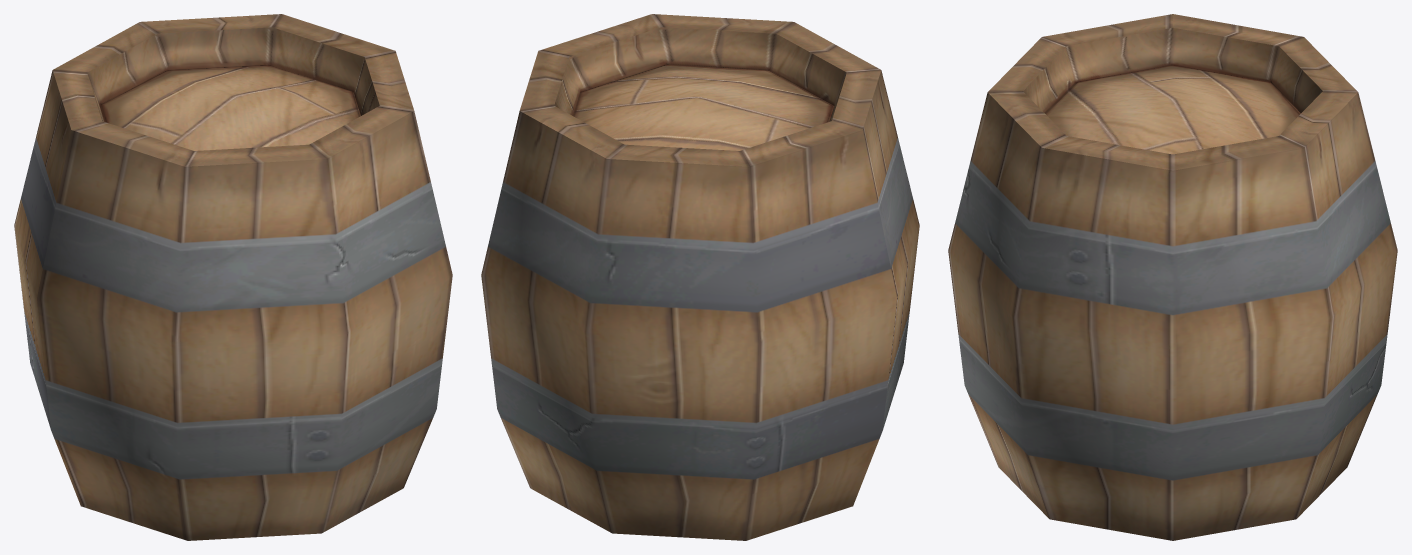
File: barrel.glb
3 views of the same model, side by side, from view 1: azimuth 30°, elevation 25°; view 2: azimuth 150°, elevation 25°; view 3: azimuth 270°, elevation 25° (orthographic).
Parts seen in each view (by area): view 1: barrel.001_Circle; view 2: barrel.001_Circle; view 3: barrel.001_Circle.
Boxes of the visible parts, <box> form: barrel.001_Circle: <box>14,14,452,540</box>; barrel.001_Circle: <box>481,14,919,540</box>; barrel.001_Circle: <box>948,14,1397,540</box>.
Size of the model in its own units: 1.62 by 1.49 by 1.62.
1 material, 1 textured.
